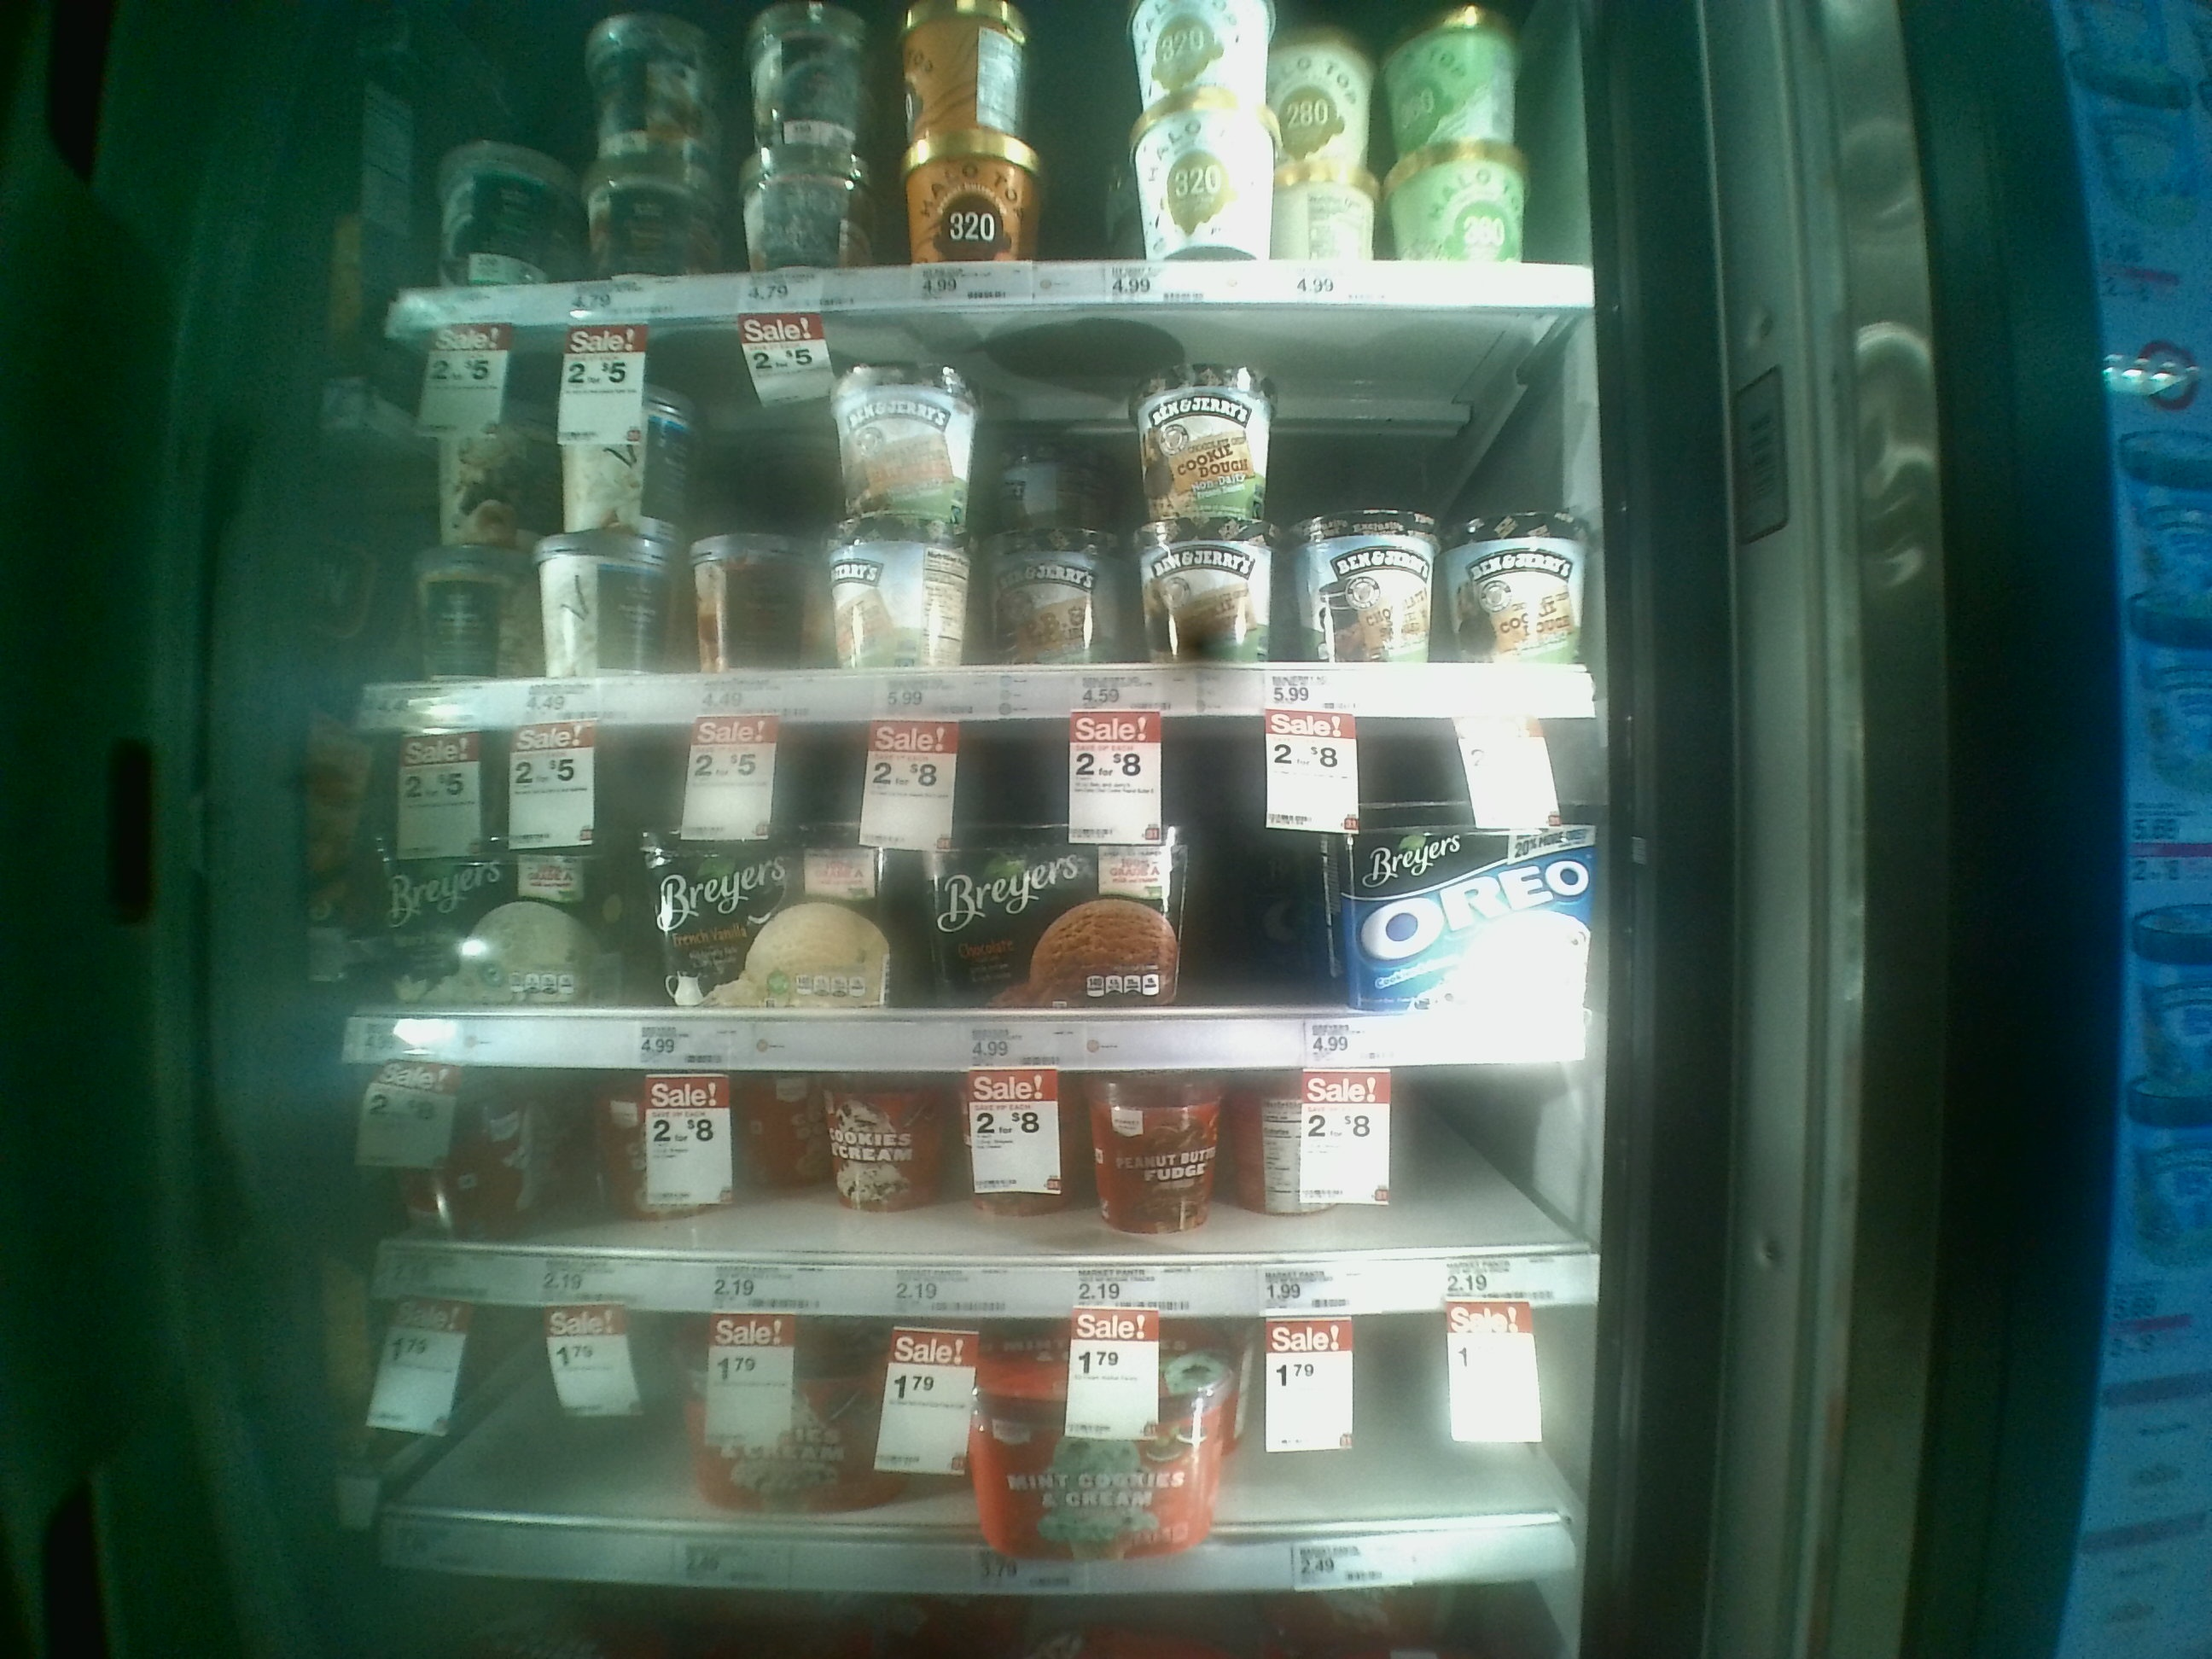ice-cream-shelf: (374, 305, 1599, 702), (359, 711, 1615, 1070), (402, 1314, 1581, 1596), (361, 1063, 1604, 1310)
